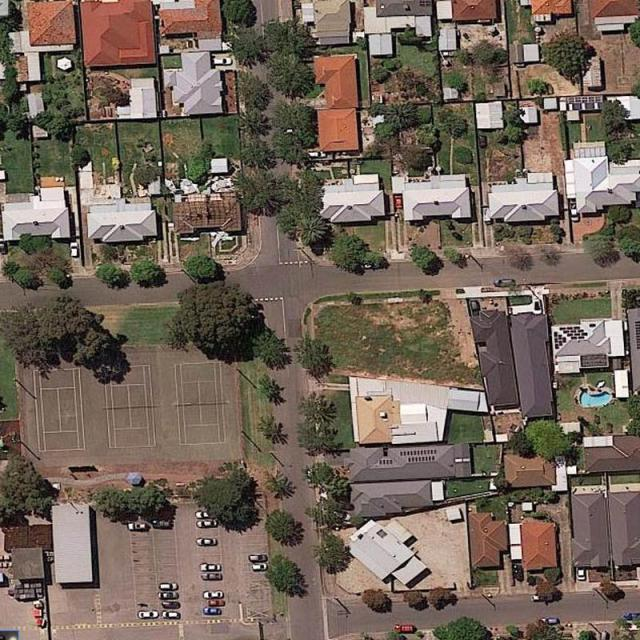vehicle: (195, 520, 218, 528), (195, 537, 218, 545), (210, 57, 233, 65), (200, 572, 222, 580), (494, 279, 516, 287), (127, 522, 148, 530), (194, 510, 215, 518), (570, 204, 579, 222), (152, 520, 172, 528), (200, 563, 222, 570), (158, 582, 177, 590), (203, 590, 222, 598), (161, 601, 180, 609), (157, 591, 178, 598), (137, 610, 158, 617), (207, 598, 225, 606), (162, 610, 180, 618), (250, 562, 267, 570), (530, 594, 547, 602), (576, 567, 586, 580), (396, 626, 414, 633), (248, 555, 268, 561), (70, 242, 78, 257), (306, 150, 326, 156), (202, 608, 221, 614), (541, 618, 558, 624), (394, 195, 402, 207), (360, 264, 378, 269)
